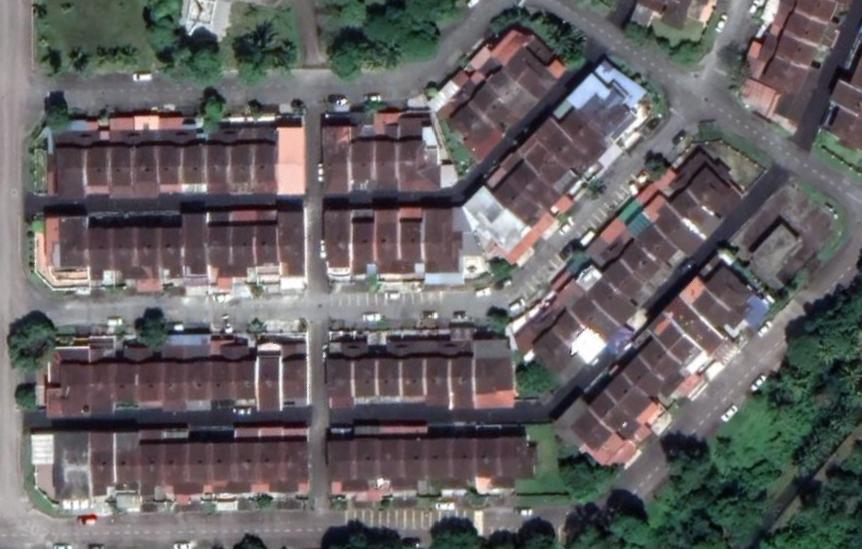building: (752, 43, 824, 130), (675, 142, 755, 220), (460, 183, 534, 256), (745, 216, 812, 295), (611, 227, 680, 289), (667, 174, 730, 238), (504, 32, 565, 98), (597, 243, 661, 305), (579, 80, 642, 141), (673, 298, 730, 360), (491, 171, 552, 228), (652, 198, 712, 255), (703, 257, 759, 318), (508, 153, 567, 209), (50, 429, 95, 502), (541, 120, 600, 175), (558, 103, 617, 158), (567, 402, 622, 460), (524, 137, 583, 191), (423, 204, 466, 277), (590, 385, 646, 441), (486, 64, 544, 117), (530, 322, 583, 380), (446, 95, 500, 151), (470, 77, 524, 133), (572, 287, 626, 343), (590, 272, 647, 323), (656, 314, 709, 367), (637, 220, 693, 270), (690, 284, 746, 333), (625, 350, 679, 400), (275, 204, 309, 281), (275, 125, 310, 198), (607, 367, 658, 416), (317, 207, 356, 271), (641, 332, 688, 385), (404, 136, 444, 195), (479, 354, 519, 413), (57, 358, 95, 420), (52, 143, 90, 203), (55, 212, 92, 273), (180, 210, 211, 280), (254, 351, 288, 413), (319, 138, 355, 196), (422, 353, 456, 413), (505, 435, 541, 491), (326, 435, 359, 495), (233, 341, 262, 407), (376, 208, 404, 276), (784, 5, 833, 42), (775, 27, 822, 65), (96, 428, 120, 501), (402, 214, 429, 276), (233, 220, 260, 281), (323, 354, 358, 401), (140, 344, 166, 407), (432, 433, 459, 492), (118, 344, 141, 413), (384, 434, 410, 495), (355, 135, 381, 194), (90, 224, 116, 282), (159, 360, 188, 412), (238, 439, 264, 497), (139, 442, 167, 495), (552, 301, 588, 342), (210, 221, 234, 282), (286, 437, 311, 495), (360, 435, 385, 493), (457, 437, 483, 492), (356, 215, 379, 277), (215, 340, 238, 402), (168, 440, 193, 497), (116, 224, 140, 282), (140, 225, 164, 283), (162, 224, 186, 282), (481, 435, 505, 493), (456, 355, 480, 413), (94, 358, 118, 415), (215, 440, 239, 497), (408, 436, 432, 493), (380, 135, 403, 194), (120, 428, 143, 487), (232, 137, 259, 186), (262, 438, 285, 495), (192, 439, 214, 497), (184, 141, 211, 188), (187, 358, 215, 403), (257, 218, 281, 270), (382, 355, 408, 401), (256, 137, 280, 186), (90, 142, 115, 189), (114, 141, 138, 189), (136, 141, 161, 187), (163, 142, 187, 188), (406, 355, 430, 401), (287, 355, 310, 402), (210, 140, 232, 188), (360, 356, 383, 400)
